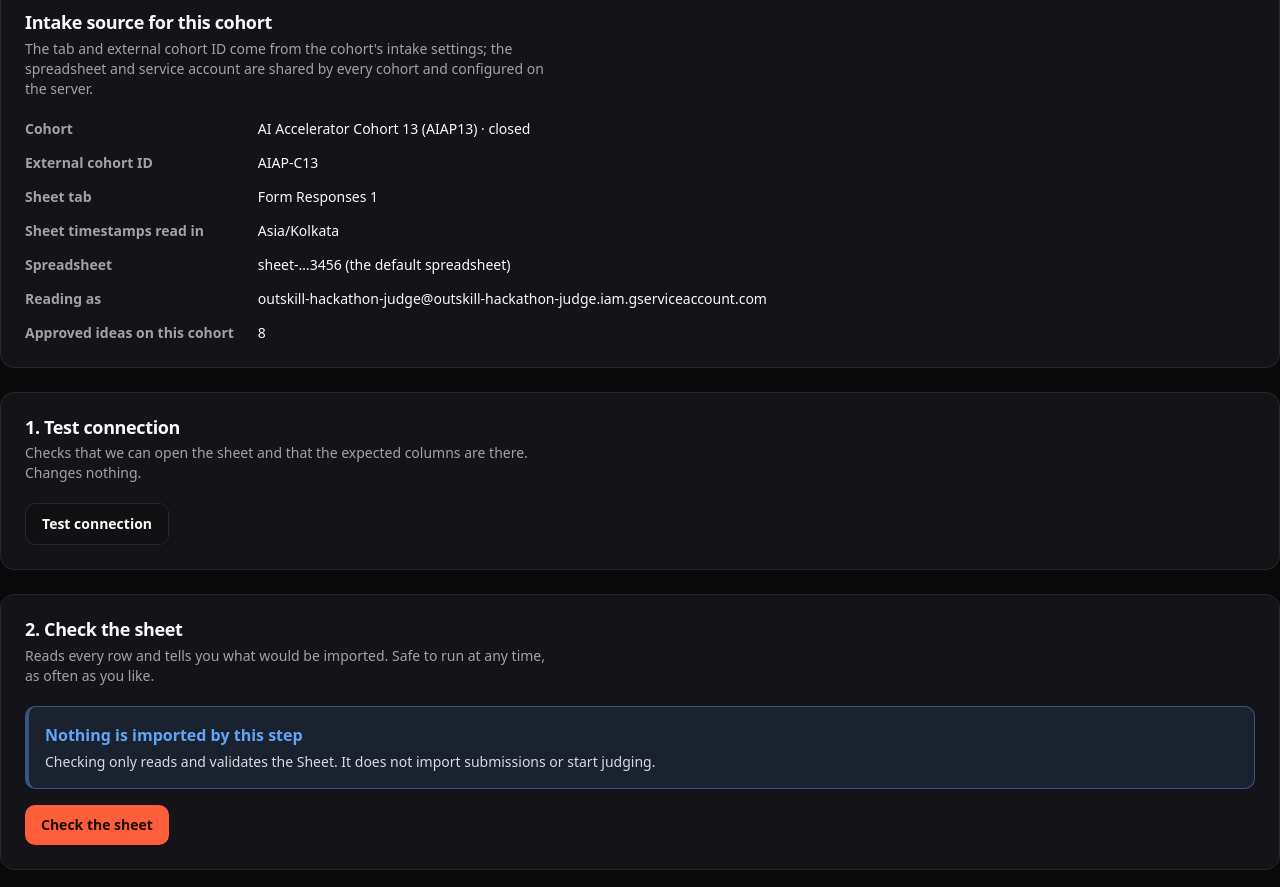
Test: after checking the sheet › offers an import naming the exact number, and asks again before doing it
What coordinates should you click on to do the following:
click the button "Check the sheet"
I would click on:
 (97, 825)
Its box is [25,805,169,845].
(page scrolled)
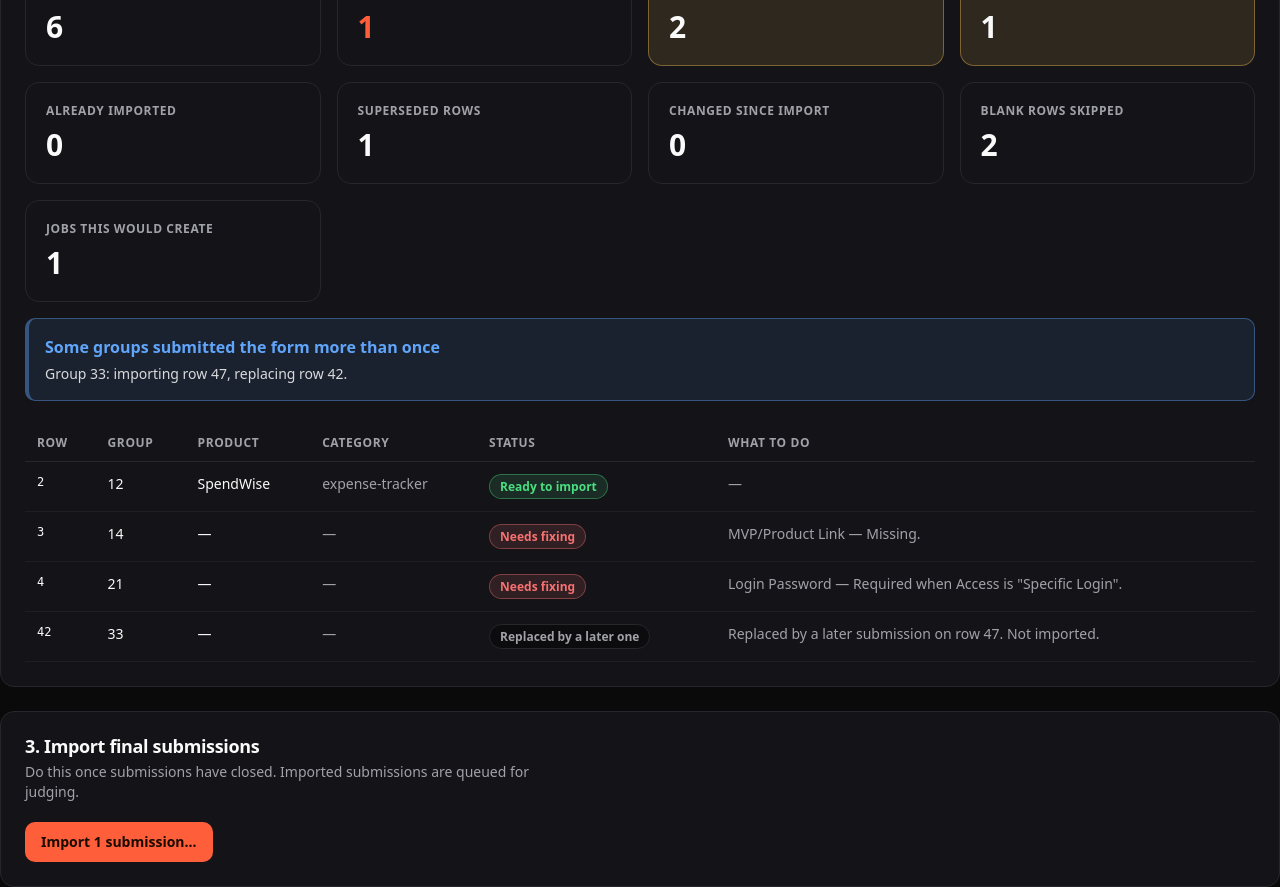
What coordinates should you click on to do the following:
click the button "Import 1 submission…"
I would click on:
 (119, 842)
Its box is [25,822,212,862].
(page scrolled)
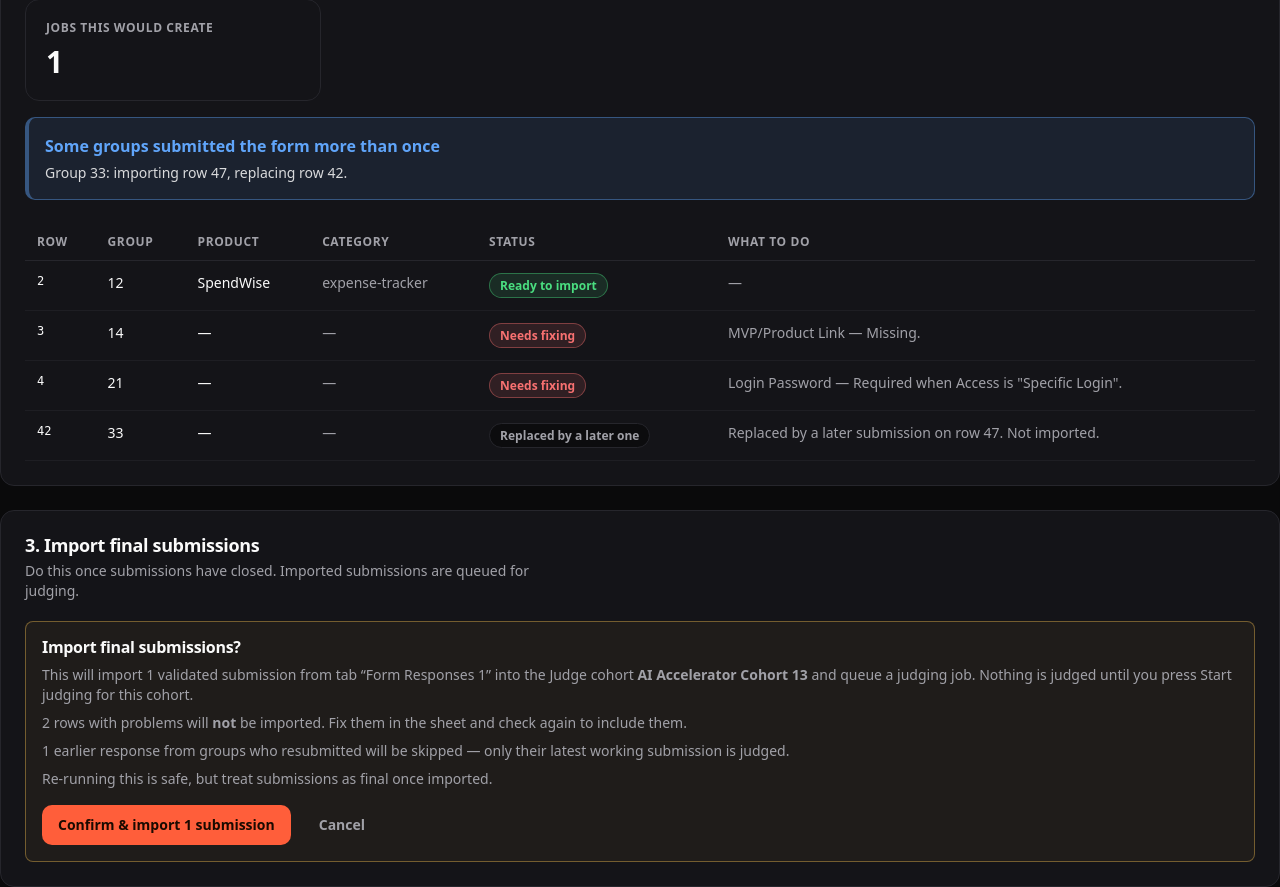
Check: the heading "Import final submissions?" is shown, box [42,636,241,658]
Check: the button "Confirm & import 1 submission" is shown, box [42,805,291,845]
Check: the text "Fix them in the sheet" is shown, box [236,713,687,732]
